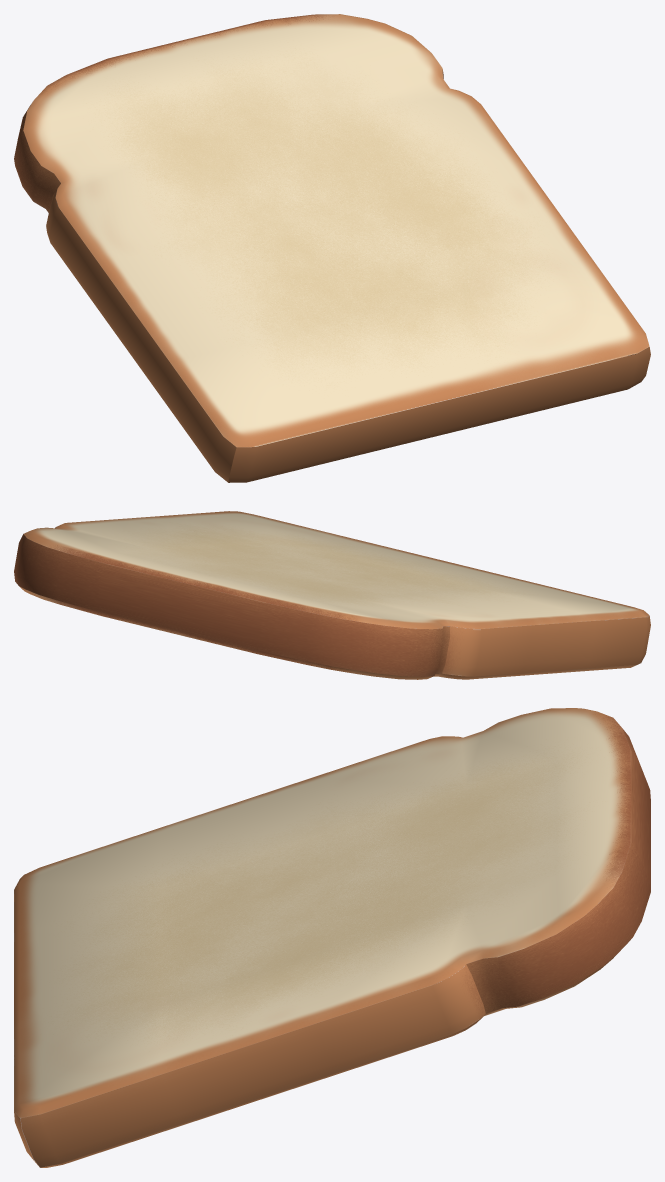
Rendered from BreadHat.fbx.
The picture shows the model from 3 angles, top to bottom: view 1: azimuth 30°, elevation 25°; view 2: azimuth 150°, elevation 25°; view 3: azimuth 270°, elevation 25°; orthographic projection. The views are drawn at different scales.
Visible parts, largest first — view 1: Box001; view 2: Box001; view 3: Box001.
Boxes of the visible parts, left/top/right/bottom form: Box001: left=14, top=14, right=650, bottom=482; Box001: left=14, top=511, right=650, bottom=679; Box001: left=14, top=708, right=650, bottom=1167.
Size of the model in its own units: 36.25 by 17.54 by 39.34.
1 material, 1 textured.
